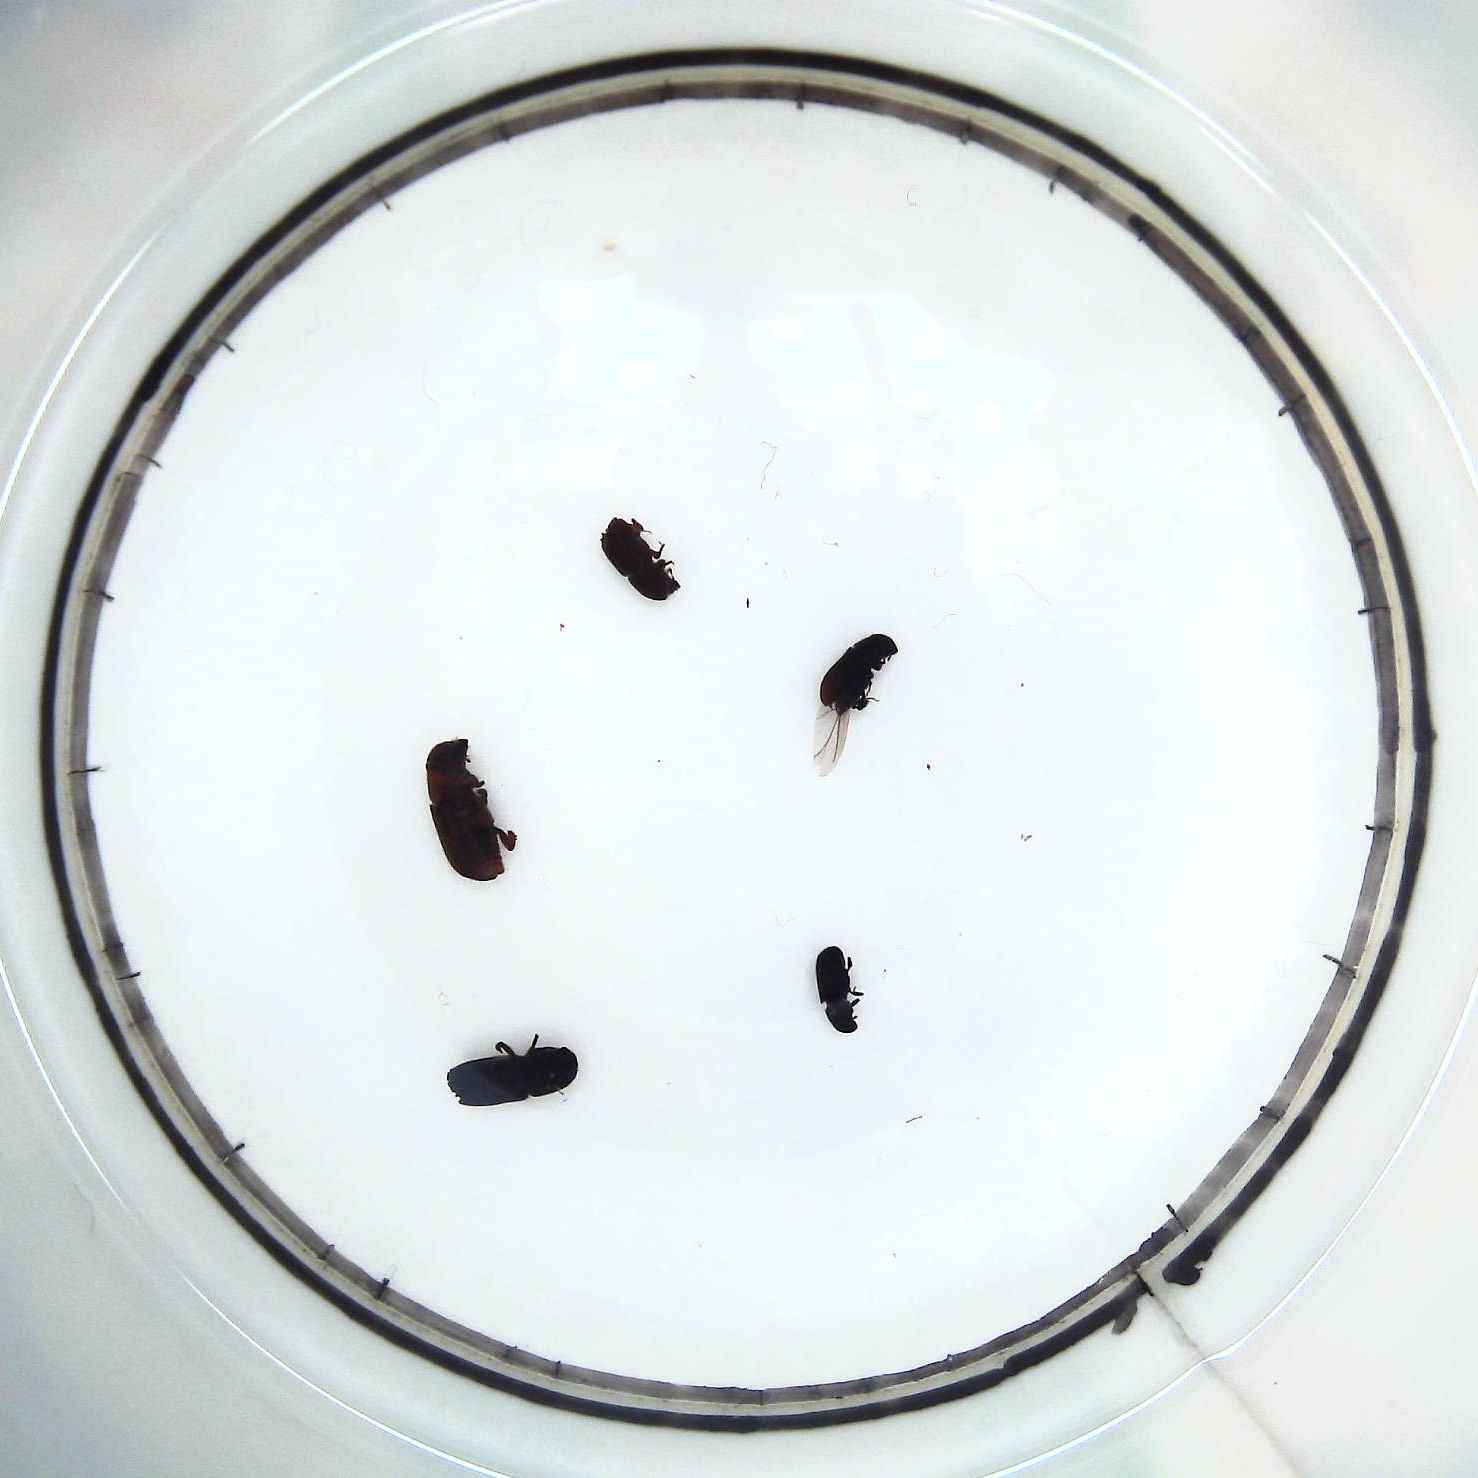Boerner: (443, 1029, 583, 1113)
Leconte: (420, 731, 525, 882)
armandi: (809, 629, 897, 770)
coleoptera: (809, 941, 866, 1044)
linnaeus: (596, 508, 684, 606)
